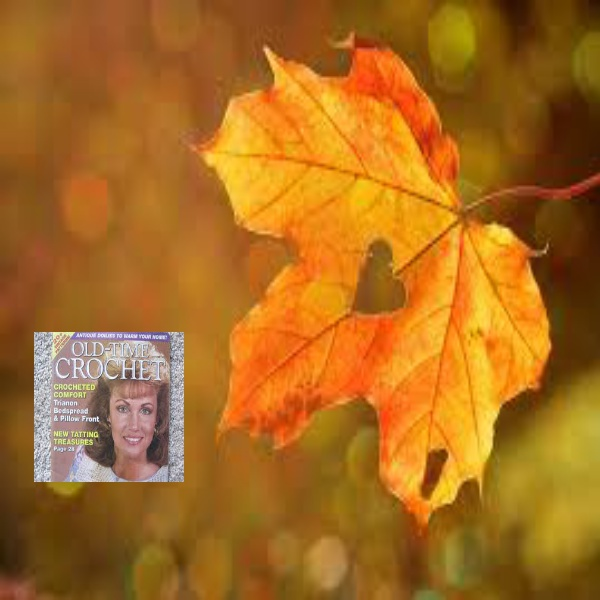time_cover: (18, 315, 182, 488)
